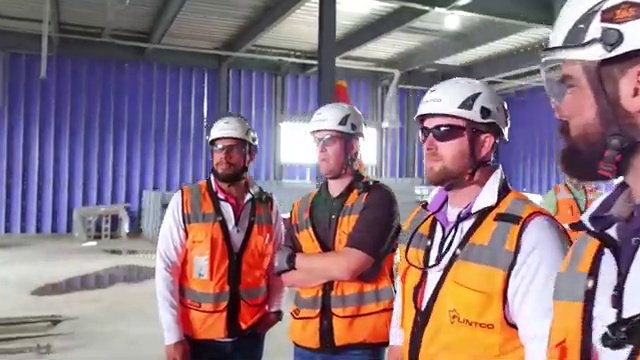helmet: (536, 3, 640, 66), (408, 74, 514, 126), (304, 98, 371, 143), (204, 112, 266, 152)
jacket: (398, 199, 536, 360), (170, 171, 275, 345), (284, 190, 394, 356), (549, 219, 640, 360), (550, 181, 585, 218)
